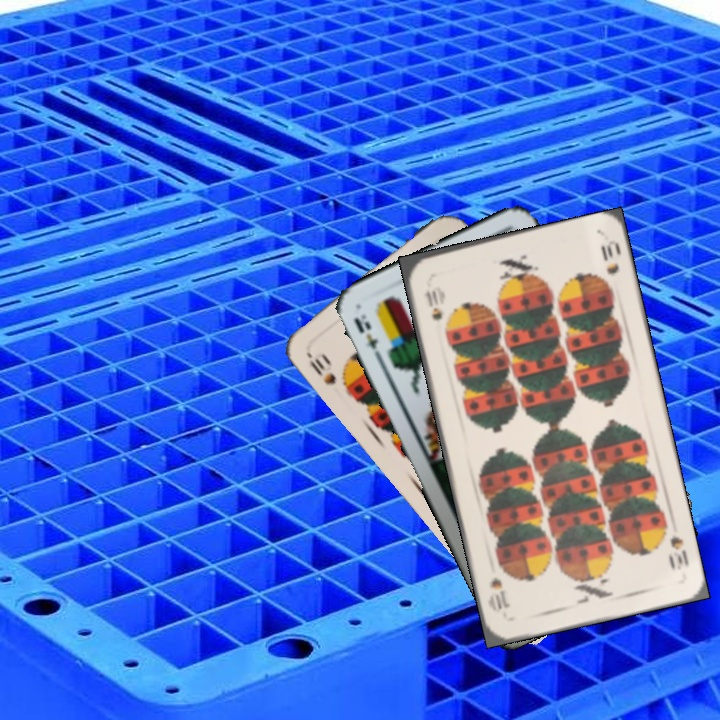EK: (350, 310, 385, 364)
S10: (664, 532, 692, 574), (305, 354, 339, 388), (421, 286, 445, 323)
